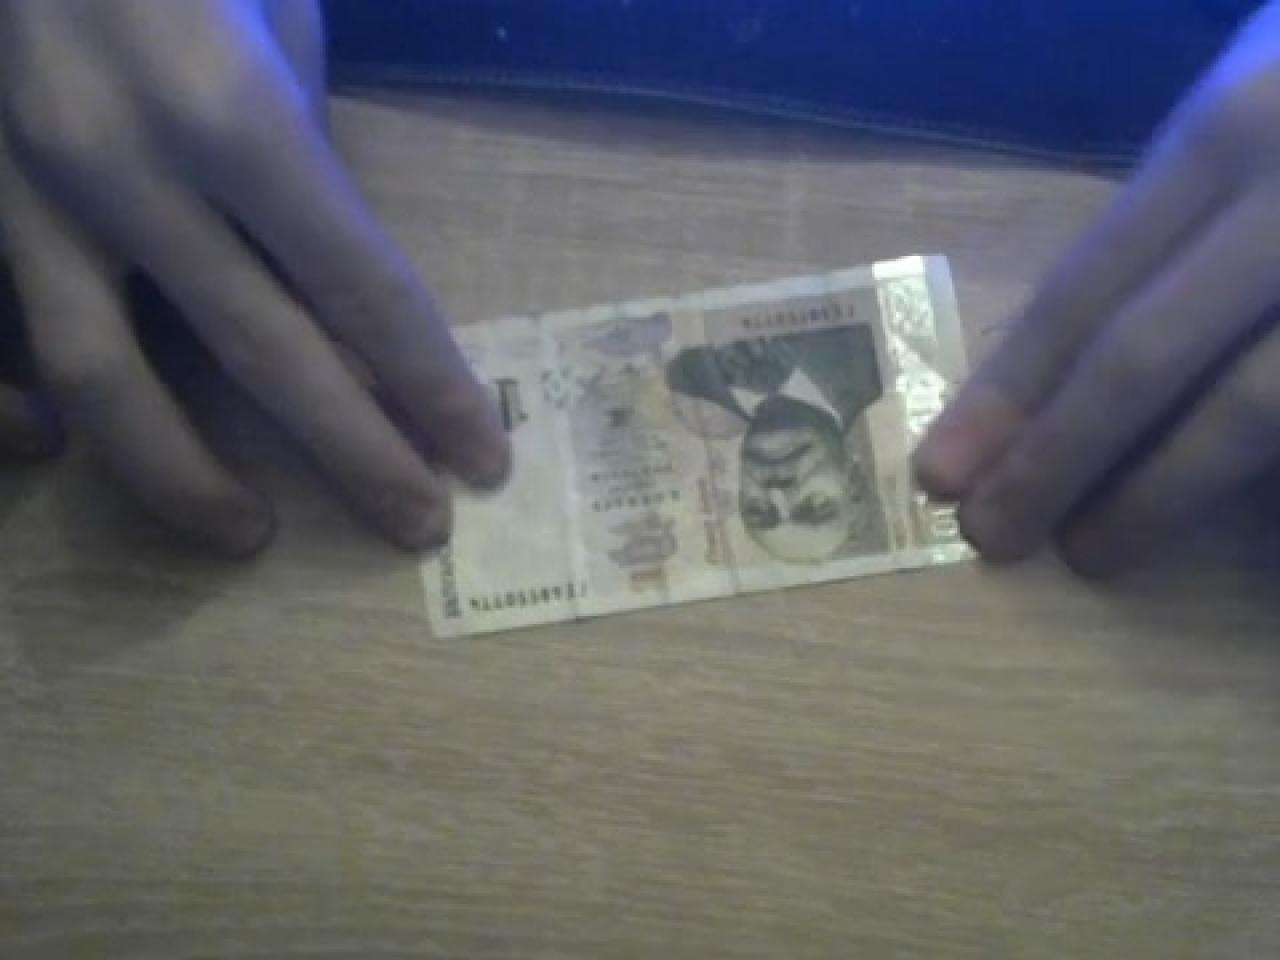10leva: (734, 392, 854, 566)
